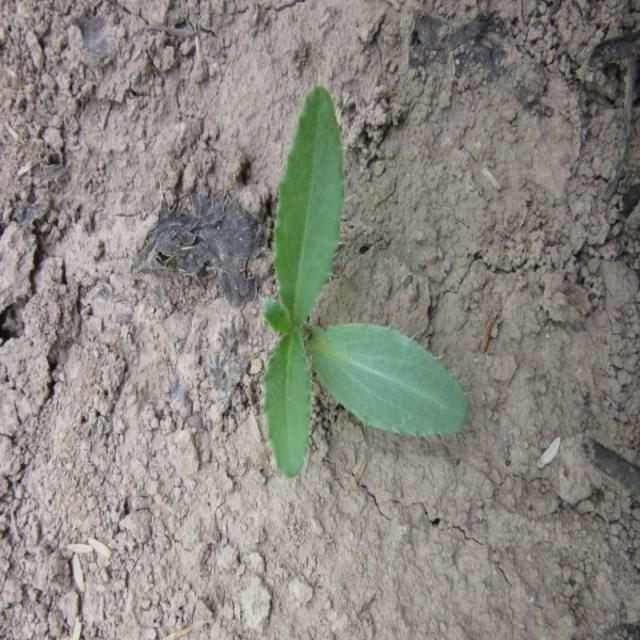field_thistle: (215, 67, 460, 497)
